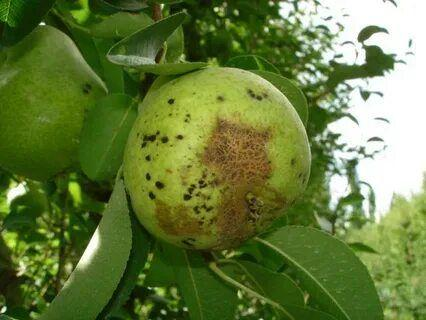Apple: (122, 60, 312, 255)
